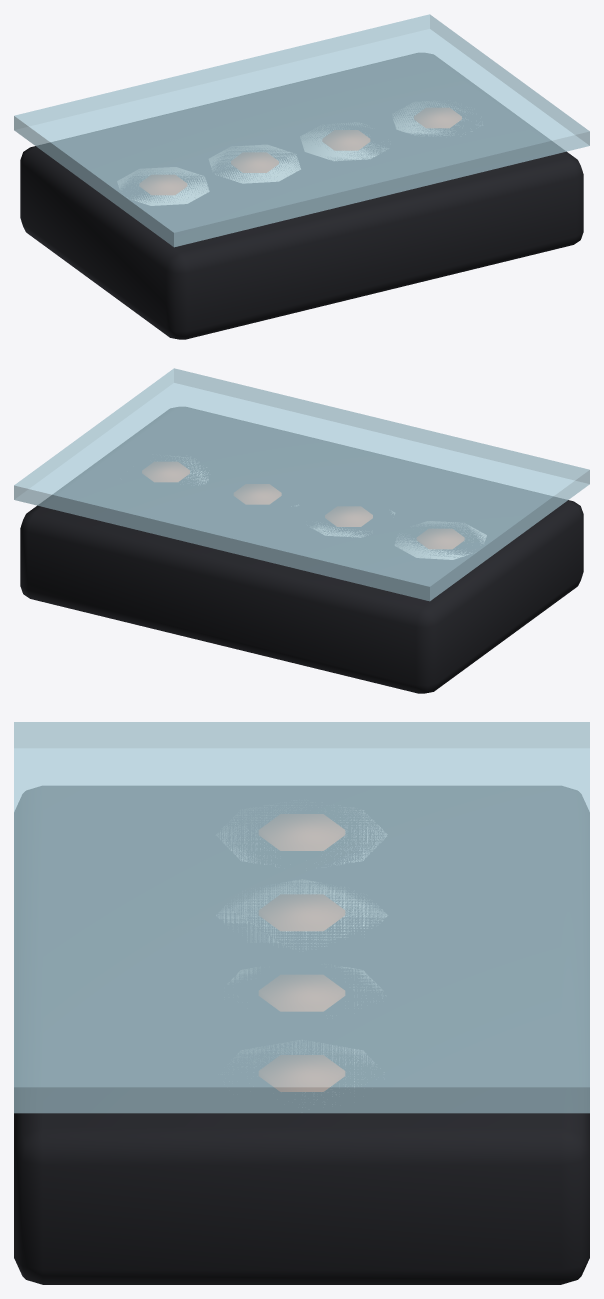
File: sushi_box.gltf
3 views of the same model, one above another, from view 1: azimuth 30°, elevation 25°; view 2: azimuth 150°, elevation 25°; view 3: azimuth 270°, elevation 25° (orthographic). The views are drawn at different scales.
Parts seen in each view (by area): view 1: sushi_box_mesh; view 2: sushi_box_mesh; view 3: sushi_box_mesh.
Part boxes in pixels (left/top/right/bottom): sushi_box_mesh: left=14, top=14, right=589, bottom=339; sushi_box_mesh: left=14, top=368, right=589, bottom=693; sushi_box_mesh: left=14, top=722, right=589, bottom=1284.
Bounding box in the file's own units: 0.3 × 0.08 × 0.2.
